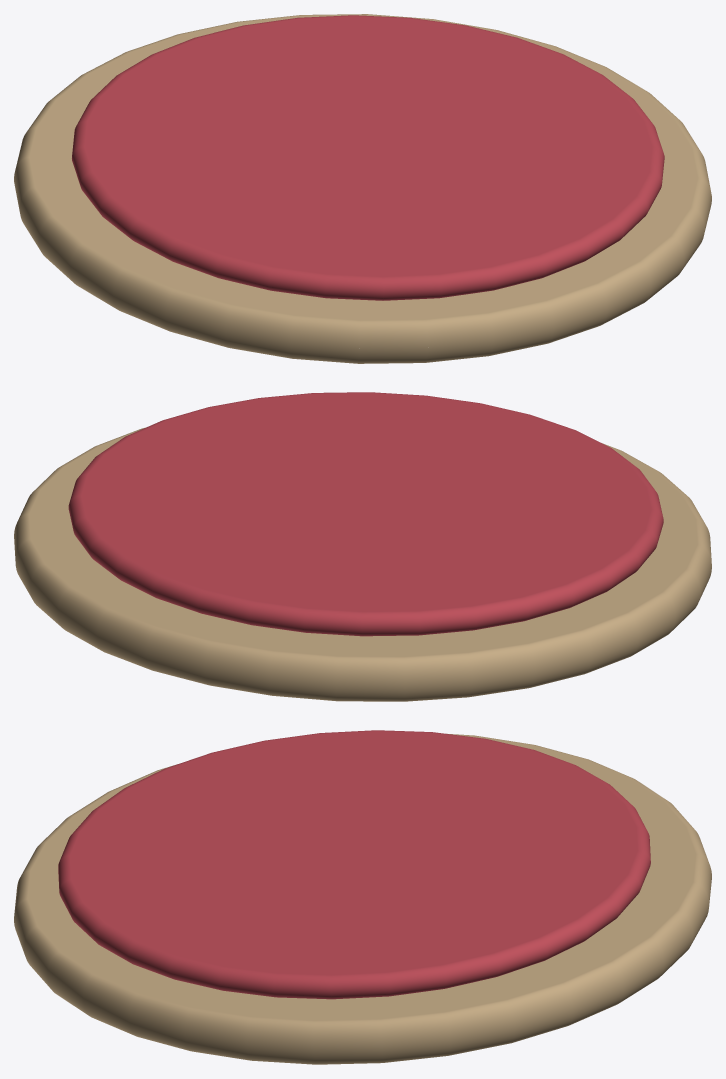
The model's file is dough_and_sauce_baked.glb.
The picture shows the model from 3 angles, top to bottom: view 1: azimuth 30°, elevation 25°; view 2: azimuth 150°, elevation 25°; view 3: azimuth 270°, elevation 25°; orthographic projection.
Visible parts, largest first — view 1: Cylinder_5, Cylinder_6; view 2: Cylinder_5, Cylinder_6; view 3: Cylinder_5, Cylinder_6.
Boxes of the visible parts, bbox=[...] form: Cylinder_5: bbox=[72, 15, 664, 300]; Cylinder_6: bbox=[14, 14, 711, 363]; Cylinder_5: bbox=[68, 392, 663, 636]; Cylinder_6: bbox=[14, 427, 711, 701]; Cylinder_5: bbox=[58, 730, 650, 999]; Cylinder_6: bbox=[14, 733, 711, 1064].
Size of the model in its own units: 0.2992 by 0.0443 by 0.2989.
